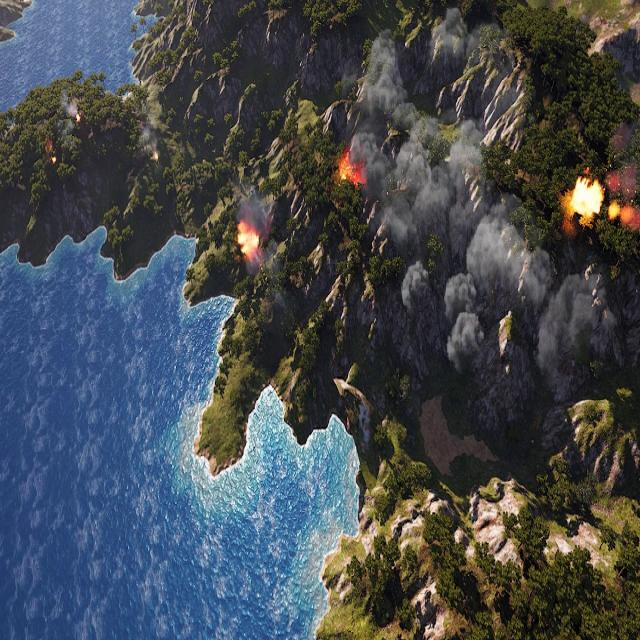fire: (571, 177, 604, 219), (336, 151, 368, 189), (608, 202, 640, 231), (236, 220, 260, 257), (49, 155, 58, 164), (154, 154, 158, 162), (76, 115, 80, 122)
smoke: (350, 5, 604, 383), (236, 178, 274, 282), (607, 163, 640, 198), (60, 88, 80, 128), (145, 116, 160, 160)
